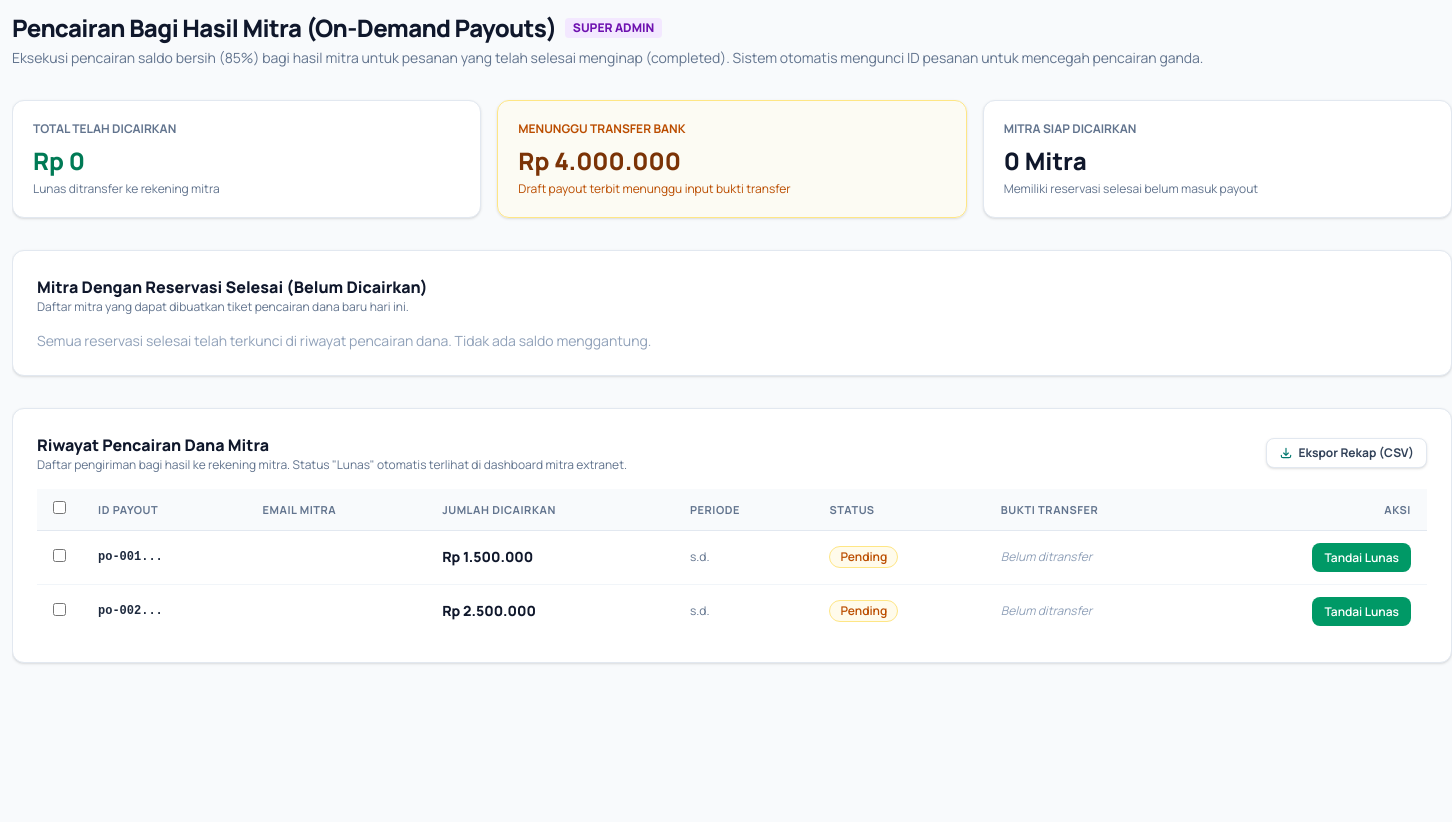
PayoutsPage.jsx Component Tests (Multi-select Batch Payout & CSV Export) › memilih semua checkbox pending, memunculkan bar aksi batch dengan total Rp 4.000.000
expect the text "po-001..." is shown: met, box [82, 530, 247, 584]
# Checkbox "Pilih semua payout pending" di header tabel
Click the checkbox titled "Pilih semua payout pending" at (60, 508), box [53, 501, 66, 514]
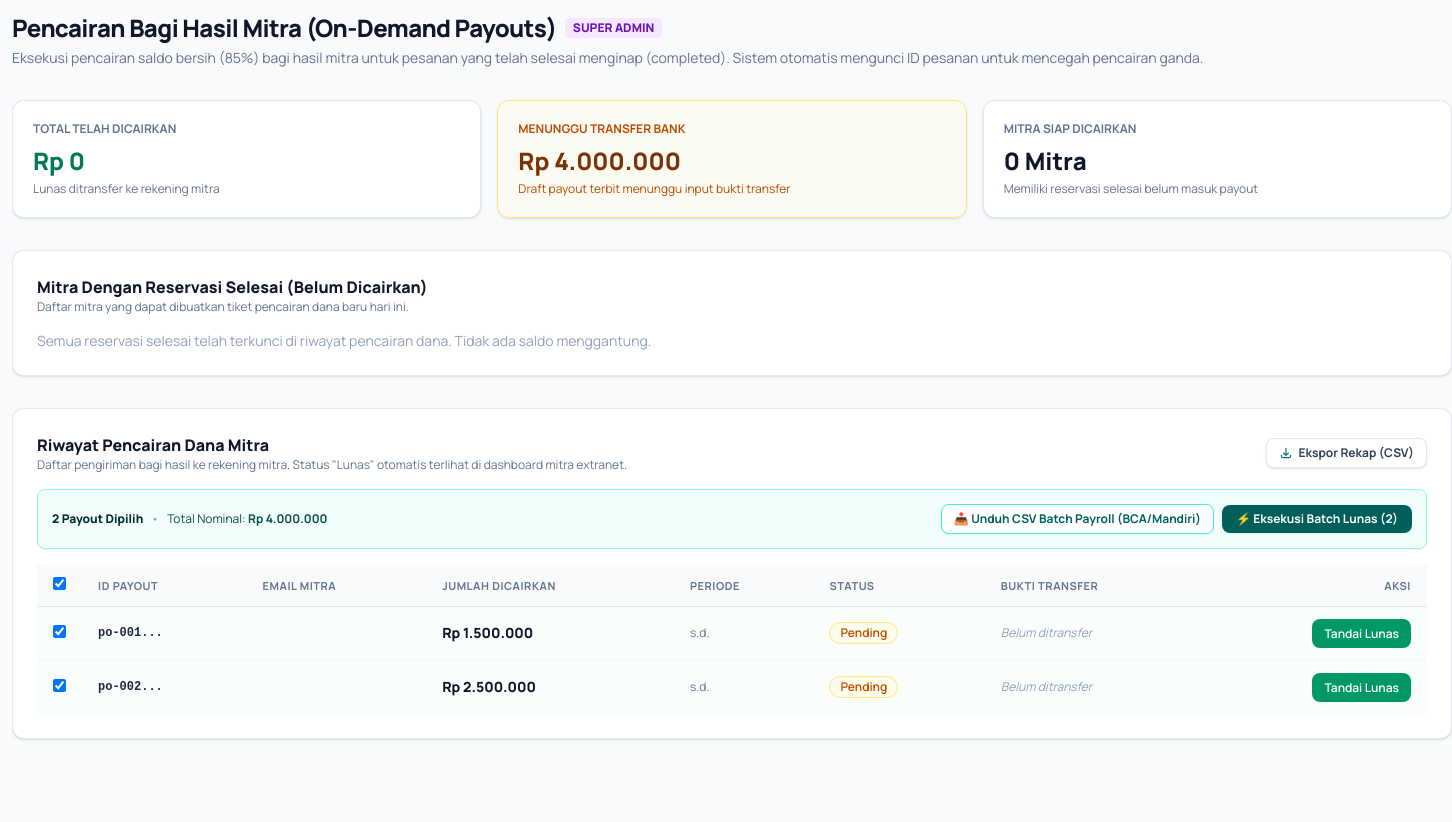
expect the text "2 Payout Dipilih" is shown: met, box [52, 511, 143, 527]
expect the button "⚡ Eksekusi Batch Lunas (2)" is shown: met, box [1222, 505, 1412, 533]
